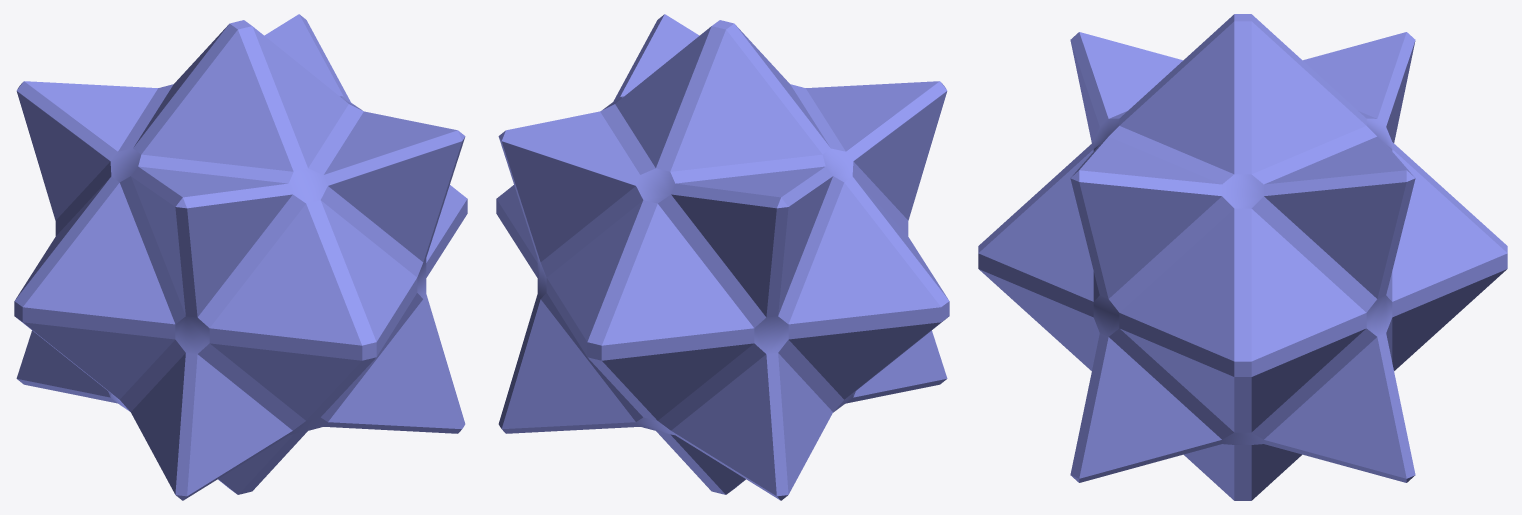
The model's file is star object blue.fbx.
3 views of the same model, side by side, from view 1: azimuth 30°, elevation 25°; view 2: azimuth 150°, elevation 25°; view 3: azimuth 270°, elevation 25° (orthographic). The views are drawn at different scales.
Parts seen in each view (by area): view 1: Cube_002; view 2: Cube_002; view 3: Cube_002.
Part boxes in pixels (x1,y1,x2,y2): Cube_002: [14, 14, 467, 500]; Cube_002: [496, 14, 949, 500]; Cube_002: [978, 14, 1507, 500].
Size of the model in its own units: 141 by 141 by 141.
